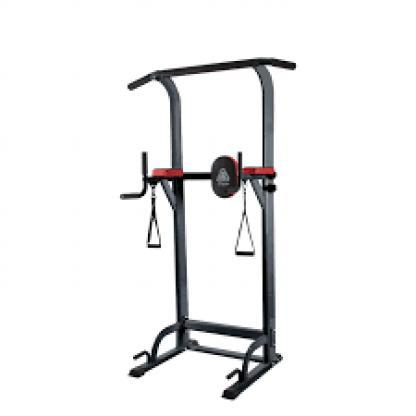chinning dipping: (119, 57, 297, 402)
